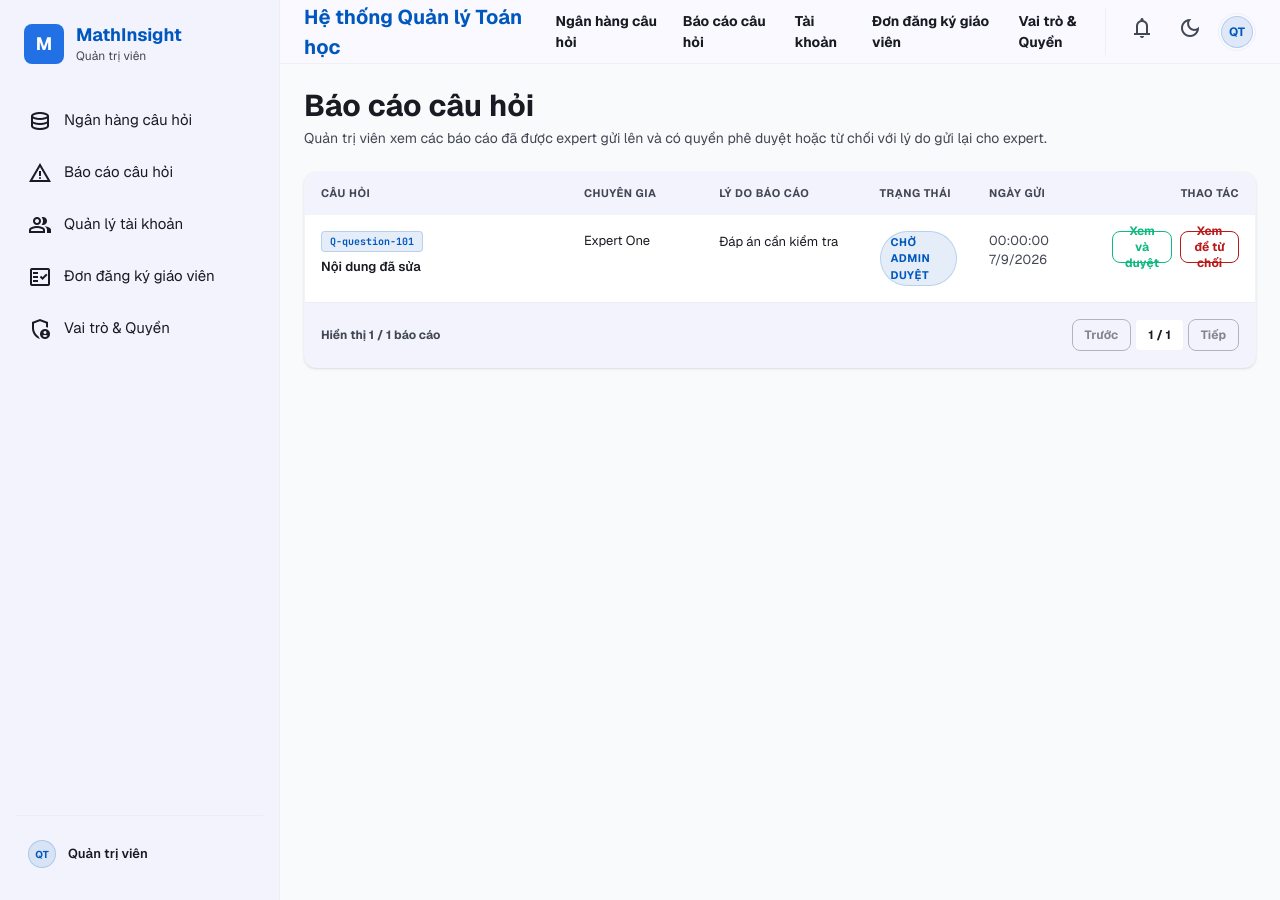
QuestionReportsPage incident approval › loads the incident and shows the submitted correction, score action, and individual dispositions before approval
Click the button "Xem và duyệt" at point(1142, 246), box [1112, 230, 1172, 262]
(page scrolled)
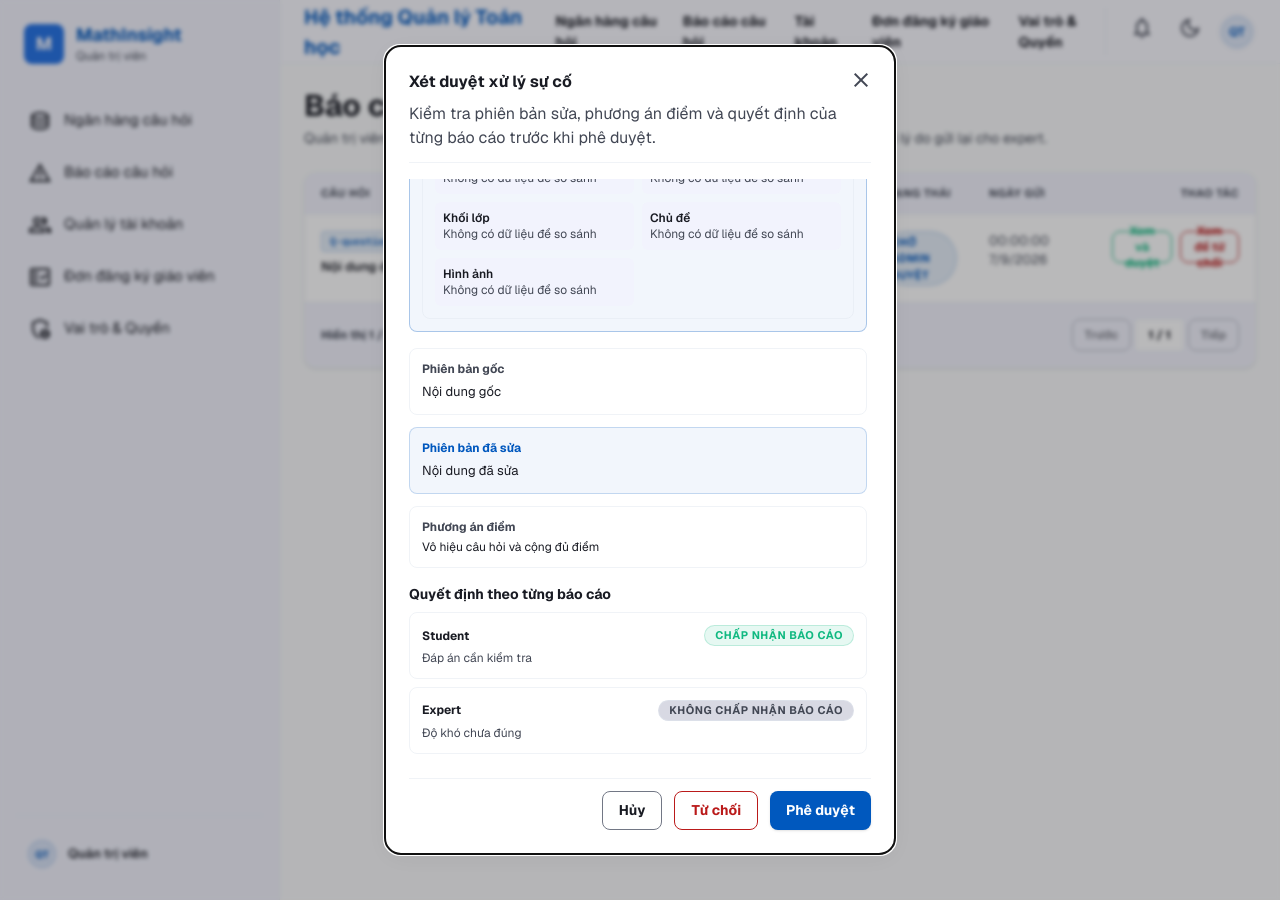
expect the text "Phiên bản đã sửa" is shown: met, box [422, 440, 521, 456]
expect the text "Nội dung gốc" is shown: met, box [422, 383, 501, 400]
expect the text "Vô hiệu câu hỏi và cộng đủ điểm" is shown: met, box [422, 539, 599, 555]
